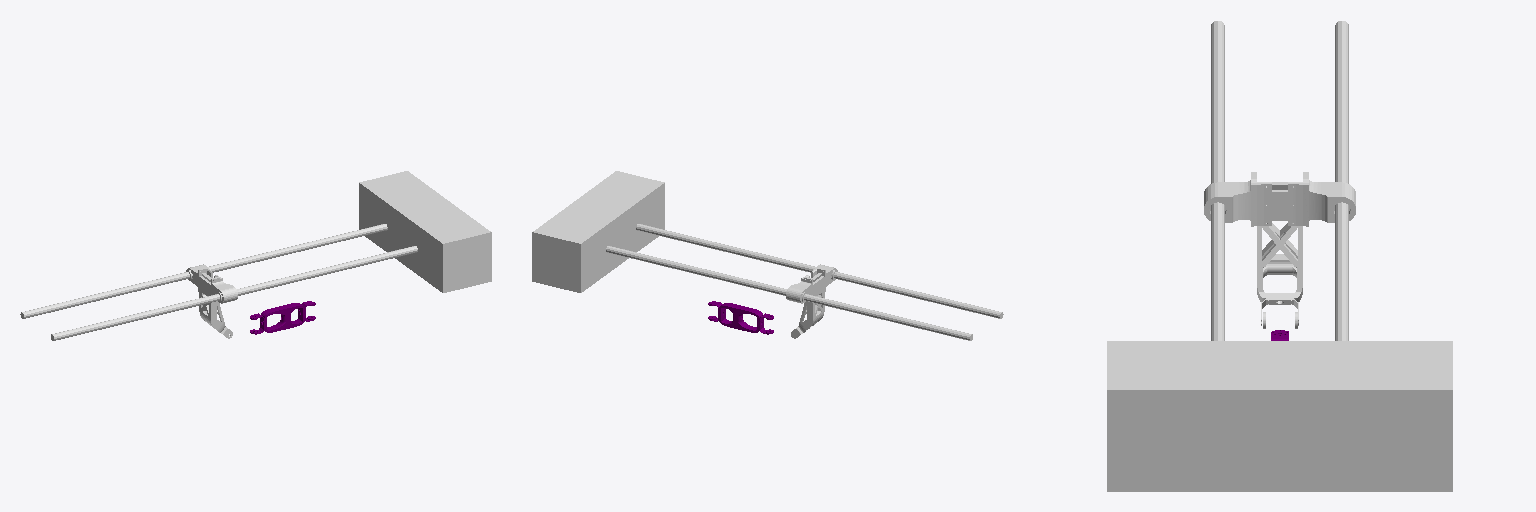
robot.urdf — Pata_Izq_Robo_Parcial_URDF_V2.5:
<?xml version="1.0" encoding="utf-8"?>
<!-- This URDF was automatically created by SolidWorks to URDF Exporter! Originally created by Stephen Brawner (brawner@gmail.com) 
     Commit Version: 1.6.0-4-g7f85cfe  Build Version: 1.6.7995.38578
     For more information, please see http://wiki.ros.org/sw_urdf_exporter -->

<robot
  name="Pata_Izq_Robo_Parcial_URDF_V2.5">

  <!-- ==================== BASE ==================== -->

  <link
    name="Base_link">

    <inertial>
      <origin
        xyz="0.82792 3.4577E-07 -0.0010927"
        rpy="0 0 0" />

      <mass
        value="25.798" />

      <inertia
        ixx="0.79521"
        ixy="-3.8562E-09"
        ixz="8.6544E-05"
        iyy="1.4694"
        iyz="7.4799E-09"
        izz="2.1148" />
    </inertial>

    <visual>
      <origin
        xyz="0 0 0"
        rpy="0 0 0" />

      <geometry>
        <mesh
          filename="package://robot_description/meshes/meshes_izq/Base_link.STL" />
      </geometry>

      <material
        name="">
        <color
          rgba="0.89412 0.89412 0.89412 1" />
      </material>
    </visual>

    <collision>
      <origin
        xyz="0 0 0"
        rpy="0 0 0" />

      <geometry>
        <mesh
          filename="package://robot_description/meshes/meshes_izq/Base_link.STL" />
      </geometry>
    </collision>

  </link>


  <!-- ==================== LEFT HIP ROLL ==================== -->

  <joint
    name="Left_Hip_Roll_Joint"
    type="revolute">

    <origin
      xyz="0.083749 0 -0.2004"
      rpy="1.5708 0 0" />

    <parent
      link="Base_link" />

    <child
      link="Left_Hip_Roll_Link" />

    <axis
      xyz="0 0 -1" />

    <limit
      lower="-0.34907"
      upper="2.2689"
      effort="100"
      velocity="100" />

  </joint>


  <link
    name="Left_Hip_Roll_Link">

    <inertial>
      <origin
        xyz="0.059425 -4.4506E-05 -0.00014451"
        rpy="0 0 0" />

      <mass
        value="0.19411" />

      <inertia
        ixx="5.2459E-05"
        ixy="8.2367E-08"
        ixz="-8.2367E-08"
        iyy="8.9433E-05"
        iyz="-6.4685E-10"
        izz="8.9433E-05" />
    </inertial>

    <visual>
      <origin
        xyz="0 0 0"
        rpy="0 0 0" />

      <geometry>
        <mesh
          filename="package://robot_description/meshes/meshes_izq/Left_Hip_Roll_Link.STL" />
      </geometry>

      <material
        name="">
        <color
          rgba="0.5020 0 0.5020 1" />
      </material>
    </visual>

    <collision>
      <origin
        xyz="0 0 0"
        rpy="0 0 0" />

      <geometry>
        <mesh
          filename="package://robot_description/meshes/meshes_izq/Left_Hip_Roll_Link.STL" />
      </geometry>
    </collision>

  </link>


  <!-- ==================== LEFT HIP PITCH ==================== -->

  <joint
    name="Left_Hip_Pitch_Joint"
    type="revolute">

    <origin
      xyz="0.11885 0 0"
      rpy="-1.5708 0 0" />

    <parent
      link="Left_Hip_Roll_Link" />

    <child
      link="Left_Hip_Pitch_Link" />

    <axis
      xyz="0 0 1" />

    <limit
      lower="-2.0071"
      upper="2.0071"
      effort="100"
      velocity="100" />

  </joint>


  <link
    name="Left_Hip_Pitch_Link">

    <inertial>
      <origin
        xyz="0.12138 9.9994E-05 -0.00049995"
        rpy="0 0 0" />

      <mass
        value="0.21755" />

      <inertia
        ixx="0.00017367"
        ixy="7.9209E-10"
        ixz="-8.4058E-09"
        iyy="0.00053617"
        iyz="-3.2733E-09"
        izz="0.00039504" />
    </inertial>

    <visual>
      <origin
        xyz="0 0 0"
        rpy="0 0 0" />

      <geometry>
        <mesh
          filename="package://robot_description/meshes/meshes_izq/Left_Hip_Pitch_Link.STL" />
      </geometry>

      <material
        name="">
        <color
          rgba="0.5020 0 0.5020 1" />
      </material>
    </visual>

    <collision>
      <origin
        xyz="0 0 0"
        rpy="0 0 0" />

      <geometry>
        <mesh
          filename="package://robot_description/meshes/meshes_izq/Left_Hip_Pitch_Link.STL" />
      </geometry>
    </collision>

  </link>


  <!-- ==================== LEFT KNEE ==================== -->

  <joint
    name="Left_Knee_Joint"
    type="revolute">

    <origin
      xyz="0.23605 0 0"
      rpy="3.1416 0 0" />

    <parent
      link="Left_Hip_Pitch_Link" />

    <child
      link="Left_Knee_Link" />

    <axis
      xyz="0 0 -1" />

    <limit
      lower="-2.0071"
      upper="2.0071"
      effort="100"
      velocity="100" />

  </joint>


  <link
    name="Left_Knee_Link">

    <inertial>
      <origin
        xyz="0.14492 -0.00076982 0.00070842"
        rpy="0 0 0" />

      <mass
        value="0.38813" />

      <inertia
        ixx="0.00026487"
        ixy="-8.2767E-07"
        ixz="-9.197E-08"
        iyy="0.00042734"
        iyz="-1.1665E-09"
        izz="0.00042054" />
    </inertial>

    <visual>
      <origin
        xyz="0 0 0"
        rpy="0 0 0" />

      <geometry>
        <mesh
          filename="package://robot_description/meshes/meshes_izq/Left_Knee_Link.STL" />
      </geometry>

      <material
        name="">
        <color
          rgba="0.5020 0 0.5020 1" />
      </material>
    </visual>

    <collision>
      <origin
        xyz="0 0 0"
        rpy="0 0 0" />

      <geometry>
        <mesh
          filename="package://robot_description/meshes/meshes_izq/Left_Knee_Link.STL" />
      </geometry>
    </collision>

  </link>

</robot>

--- Render facts (derived) ---
Views: 3 orthographic renders of the robot side by side, from view 1: azimuth 30°, elevation 25°; view 2: azimuth 150°, elevation 25°; view 3: azimuth 270°, elevation 25°.
Model Pata_Izq_Robo_Parcial_URDF_V2.5 with 4 links and 3 joints (3 revolute), rooted at Base_link, posed every joint at zero.
Visible links, largest first — view 1: Base_link, Left_Hip_Pitch_Link; view 2: Base_link, Left_Hip_Pitch_Link; view 3: Base_link.
Boxes of the visible links, left/top/right/bottom form: Base_link: left=20, top=171, right=491, bottom=340; Left_Hip_Pitch_Link: left=250, top=301, right=315, bottom=334; Base_link: left=532, top=171, right=1003, bottom=340; Left_Hip_Pitch_Link: left=708, top=301, right=773, bottom=334; Base_link: left=1107, top=21, right=1452, bottom=491.
Bounding box of the posed robot: 1.7 × 0.6 × 0.3389 m (x, y, z).
Meshes: 4 distinct files referenced, 2 mesh visuals loaded (2 binary STL); not drawn: 2 (reference not matched to a file when rendering).
